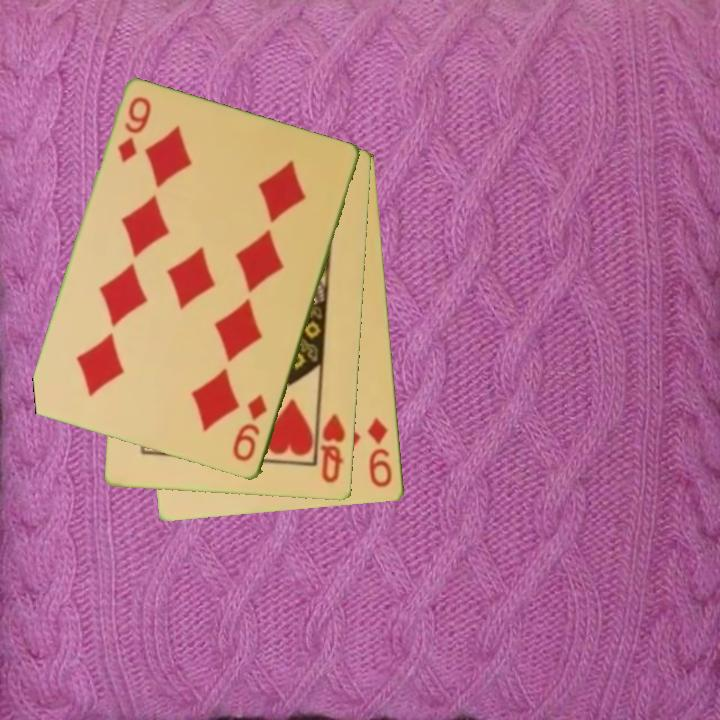9d: (229, 391, 271, 465), (114, 93, 154, 166), (364, 414, 395, 491)
Qh: (317, 411, 349, 486)
